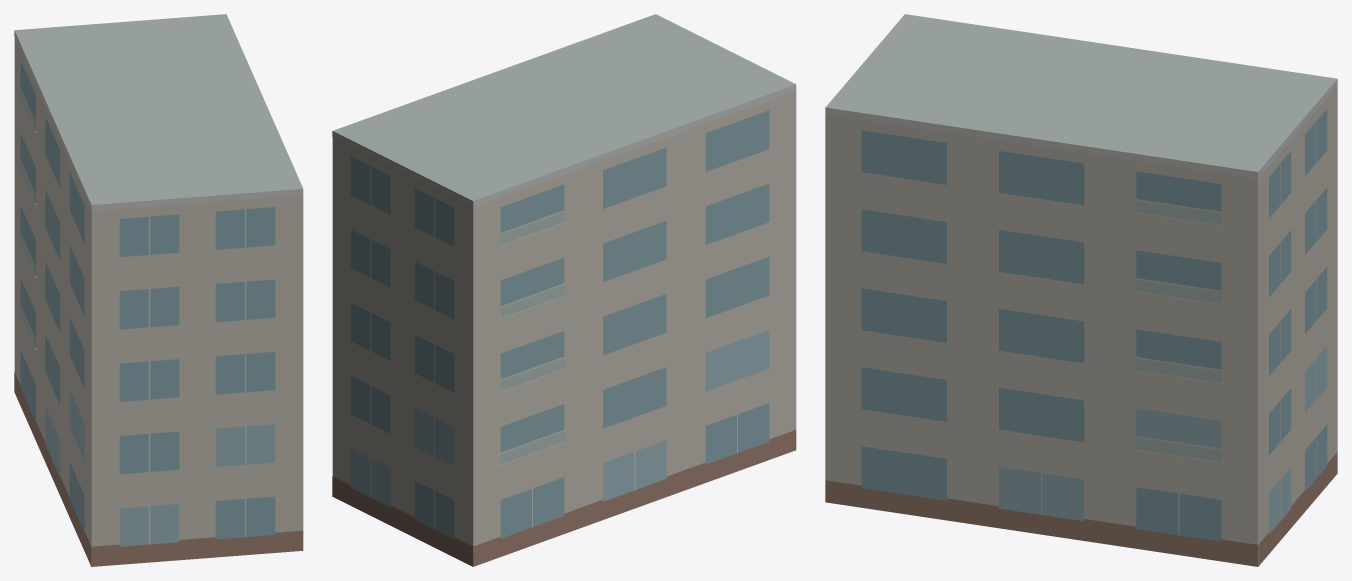
The model's file is survey-upis-32890033.glb.
The picture shows the model from 3 angles, left to right: view 1: azimuth 30°, elevation 25°; view 2: azimuth 150°, elevation 25°; view 3: azimuth 270°, elevation 25°; orthographic projection. The views are drawn at different scales.
Parts seen in each view (by area): view 1: survey-upis-32890033.tmp; view 2: survey-upis-32890033.tmp; view 3: survey-upis-32890033.tmp.
Boxes of the visible parts, x1,y1,x2,y2 form: survey-upis-32890033.tmp: (14, 14, 303, 566); survey-upis-32890033.tmp: (332, 14, 796, 566); survey-upis-32890033.tmp: (825, 14, 1337, 566).
Bounding box in the file's own units: 11.94 × 13.9 × 16.35.
